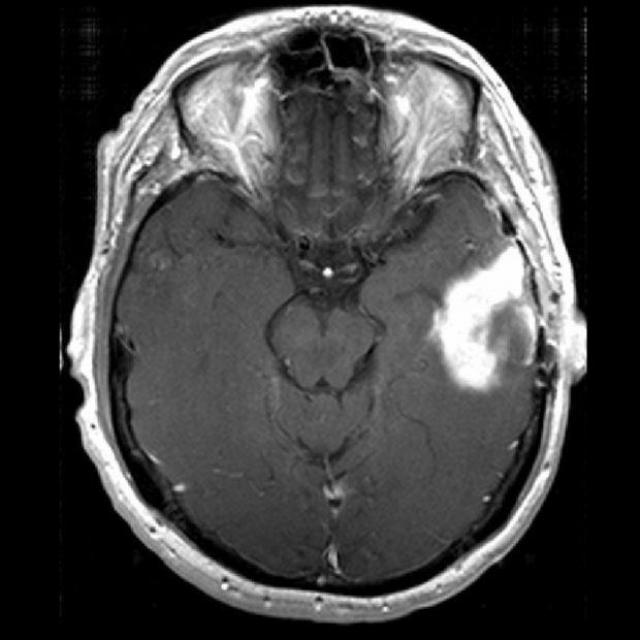Tumor-Cell: (430, 246, 542, 390)
